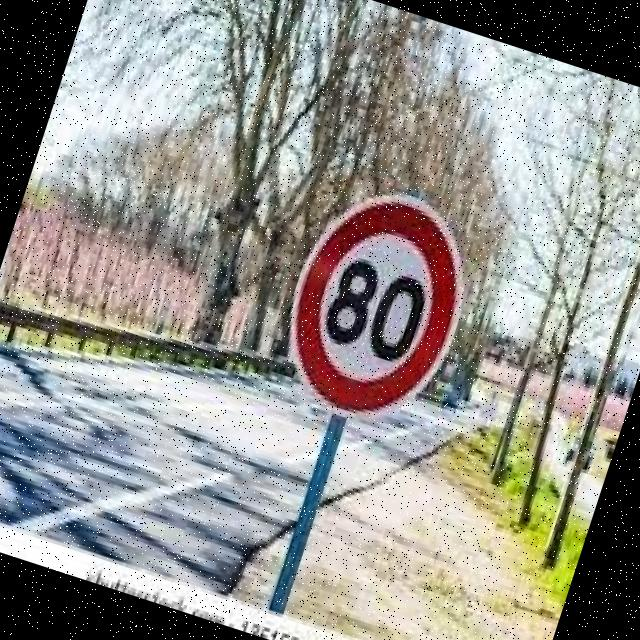speed_limit_80: (258, 166, 495, 447)
